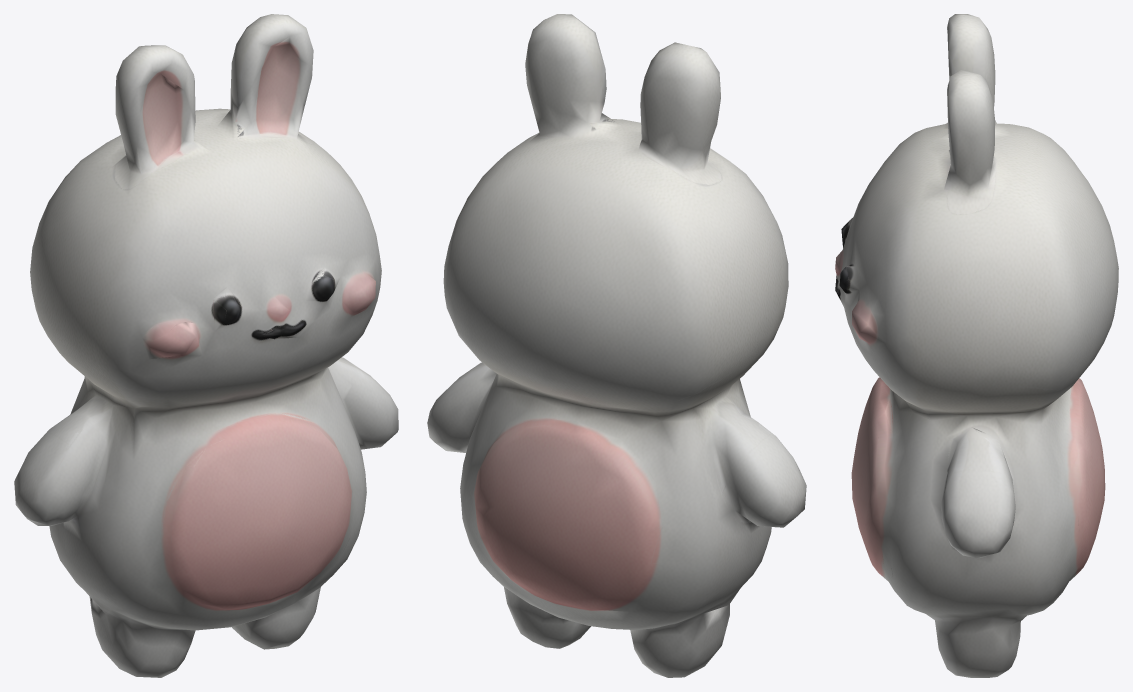
Rendered from rabbit.glb.
The picture shows the model from 3 angles, left to right: view 1: azimuth 30°, elevation 25°; view 2: azimuth 150°, elevation 25°; view 3: azimuth 270°, elevation 25°; orthographic projection. The views are drawn at different scales.
Visible parts, largest first — view 1: material_0; view 2: material_0; view 3: material_0.
Boxes of the visible parts, left/top/right/bottom form: material_0: left=14, top=14, right=398, bottom=677; material_0: left=427, top=14, right=806, bottom=677; material_0: left=835, top=14, right=1118, bottom=677.
Size of the model in its own units: 0.6122 by 0.9982 by 0.4277.
Materials: 1 (1 with a texture image).
